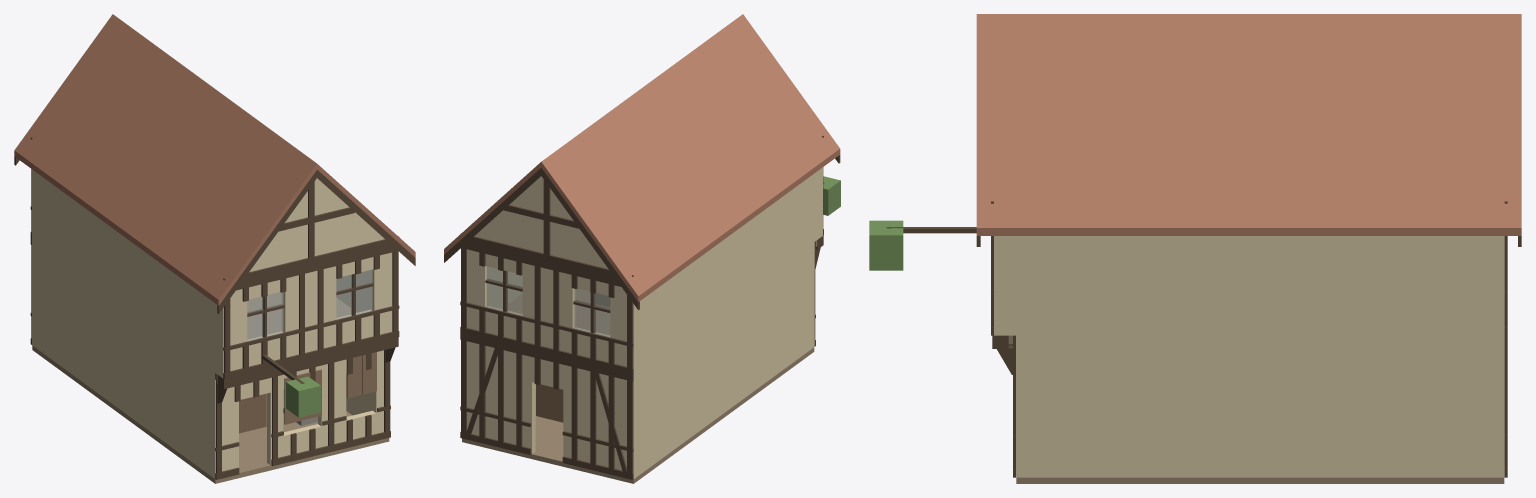
File: alehouse-a.glb
The picture shows the model from 3 angles, left to right: view 1: azimuth 30°, elevation 25°; view 2: azimuth 150°, elevation 25°; view 3: azimuth 270°, elevation 25°; orthographic projection. The views are drawn at different scales.
Visible parts, largest first — view 1: render, roof, timber, floor, glass, green, alehouse-a-door-01 leaf, alehouse-a-shutter-03 leaf, alehouse-a-shutter-04 leaf; view 2: render, roof, timber, floor, glass, alehouse-a-door-02 leaf, green; view 3: roof, render, floor, timber, green.
Boxes of the visible parts, x1,y1,x2,y2 form: render: [32, 169, 392, 478]; roof: [14, 14, 415, 305]; timber: [14, 137, 415, 479]; floor: [32, 292, 389, 483]; glass: [247, 269, 372, 341]; green: [286, 376, 320, 417]; alehouse-a-door-01 leaf: [239, 393, 266, 433]; alehouse-a-shutter-03 leaf: [346, 355, 361, 398]; alehouse-a-shutter-04 leaf: [362, 352, 376, 394]; render: [467, 167, 822, 478]; roof: [444, 14, 840, 301]; timber: [444, 136, 840, 479]; floor: [462, 240, 817, 483]; glass: [486, 266, 610, 336]; alehouse-a-door-02 leaf: [536, 384, 563, 422]; green: [823, 176, 840, 215]; roof: [976, 14, 1521, 235]; render: [994, 236, 1504, 477]; floor: [1008, 335, 1504, 483]; timber: [886, 201, 1521, 477]; green: [869, 220, 903, 270].
Bounding box in the file's own units: 6.2 × 9.33 × 13.35.
